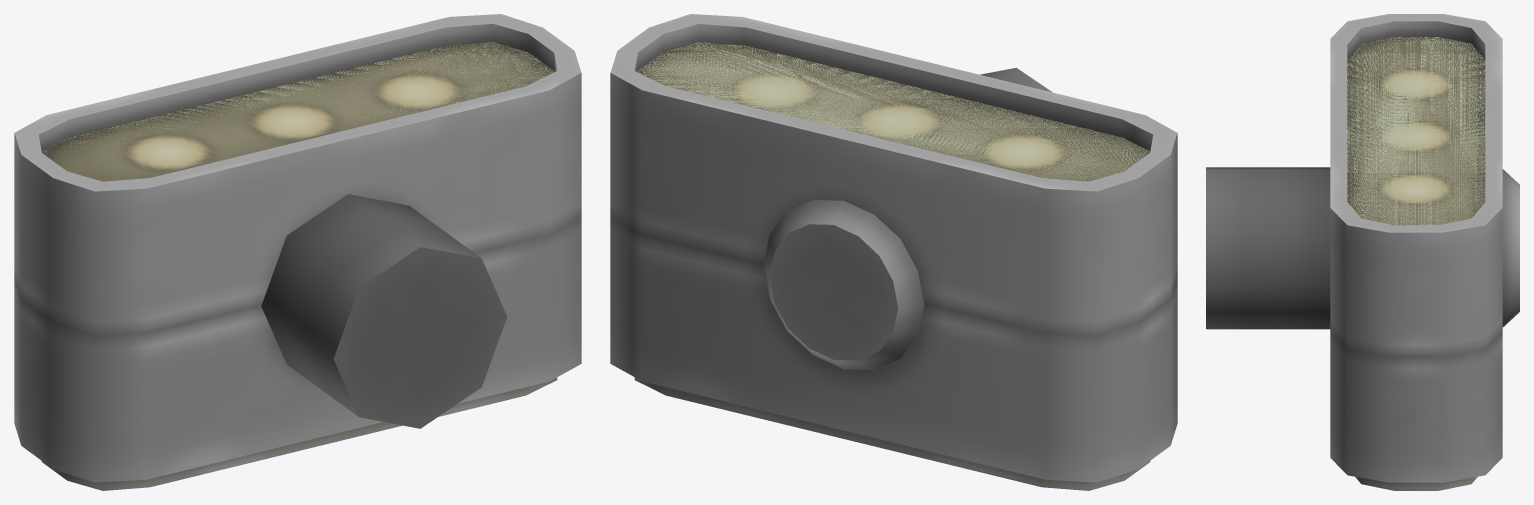
The model's file is Tantares_Light_1.obj.
The picture shows the model from 3 angles, left to right: view 1: azimuth 30°, elevation 25°; view 2: azimuth 150°, elevation 25°; view 3: azimuth 270°, elevation 25°; orthographic projection. The views are drawn at different scales.
Parts seen in each view (by area): view 1: Tantares_Light_1, Tantares_Light_1_Light; view 2: Tantares_Light_1, Tantares_Light_1_Light; view 3: Tantares_Light_1, Tantares_Light_1_Light.
Boxes of the visible parts, box(x1,y1,x2,y2) form: Tantares_Light_1: box(14, 14, 581, 490); Tantares_Light_1_Light: box(41, 42, 554, 181); Tantares_Light_1: box(610, 14, 1177, 490); Tantares_Light_1_Light: box(637, 42, 1150, 181); Tantares_Light_1: box(1206, 14, 1519, 490); Tantares_Light_1_Light: box(1347, 37, 1485, 225).
Size of the model in its own units: 0.1875 by 0.1062 by 0.1138.
